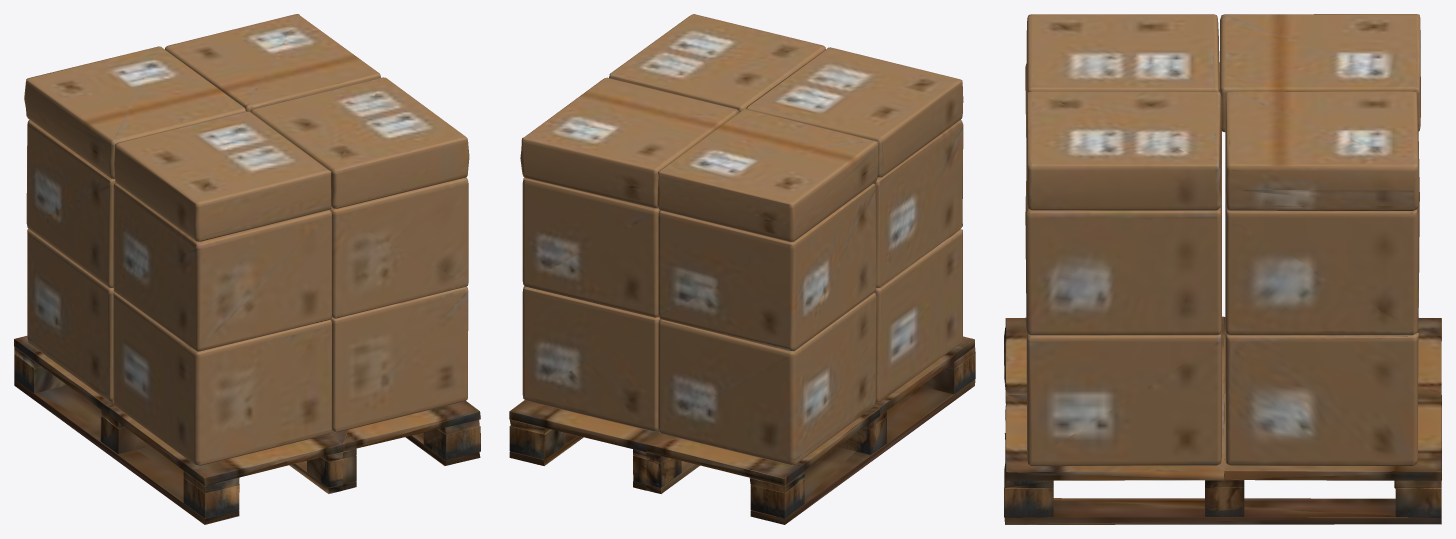
The model's file is office-parcel-pallet.glb.
3 views of the same model, side by side, from view 1: azimuth 30°, elevation 25°; view 2: azimuth 150°, elevation 25°; view 3: azimuth 270°, elevation 25° (orthographic). The views are drawn at different scales.
Visible parts, largest first — view 1: parcel-pallet; view 2: parcel-pallet; view 3: parcel-pallet.
Boxes of the visible parts, bbox=[...] form: parcel-pallet: bbox=[14, 14, 480, 524]; parcel-pallet: bbox=[509, 14, 975, 524]; parcel-pallet: bbox=[1004, 14, 1441, 524].
Size of the model in its own units: 1.2 by 1.3 by 1.44.
Materials: 1 (1 with a texture image).
